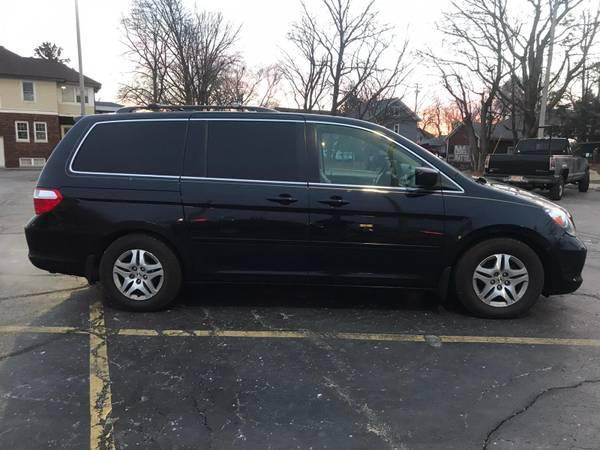Front_Bumper: (548, 231, 588, 296)
Front_Fender: (442, 163, 566, 295)
Front_Right_Door: (311, 184, 448, 295)
Front_Right_Window: (308, 119, 446, 193)
Rear_Bumper: (27, 212, 103, 275)
Rear_Fender: (33, 118, 197, 293)
Rear_Right_Door: (178, 175, 311, 292)
Rear_Right_Window: (179, 117, 309, 182)
Right_Headlight: (540, 204, 576, 233)
Right_Taillight: (31, 184, 62, 212)
Roof: (37, 107, 457, 180)
Wheel: (456, 233, 549, 317), (96, 227, 181, 306)
